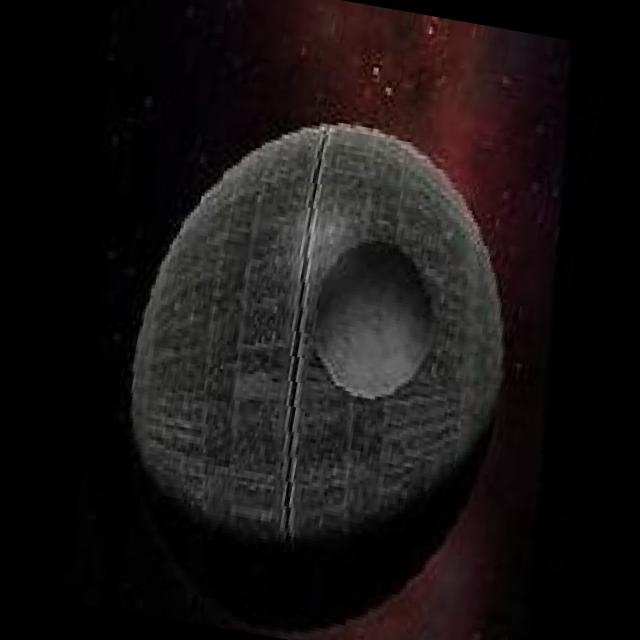Death Star: (63, 75, 552, 640)
